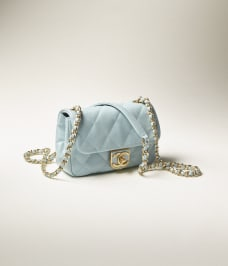channel: (49, 101, 183, 182), (86, 102, 129, 142), (21, 146, 61, 183), (147, 99, 164, 168), (107, 146, 137, 169)
